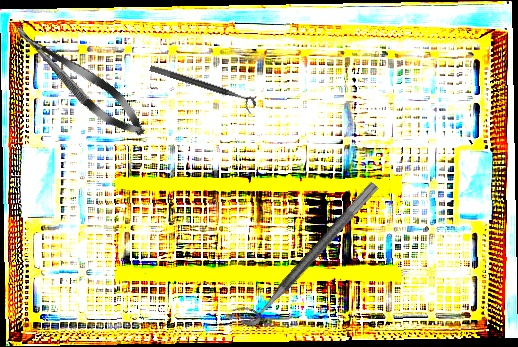Fixation Ring: (230, 170, 380, 332), (146, 64, 258, 115)
Micro Scissor: (3, 13, 154, 146)
